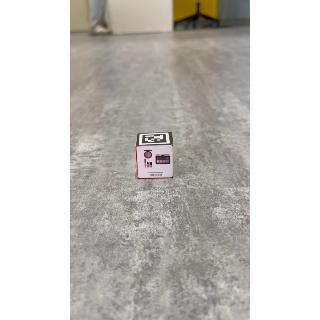Expired_Cosmetic: (135, 146, 179, 181)
